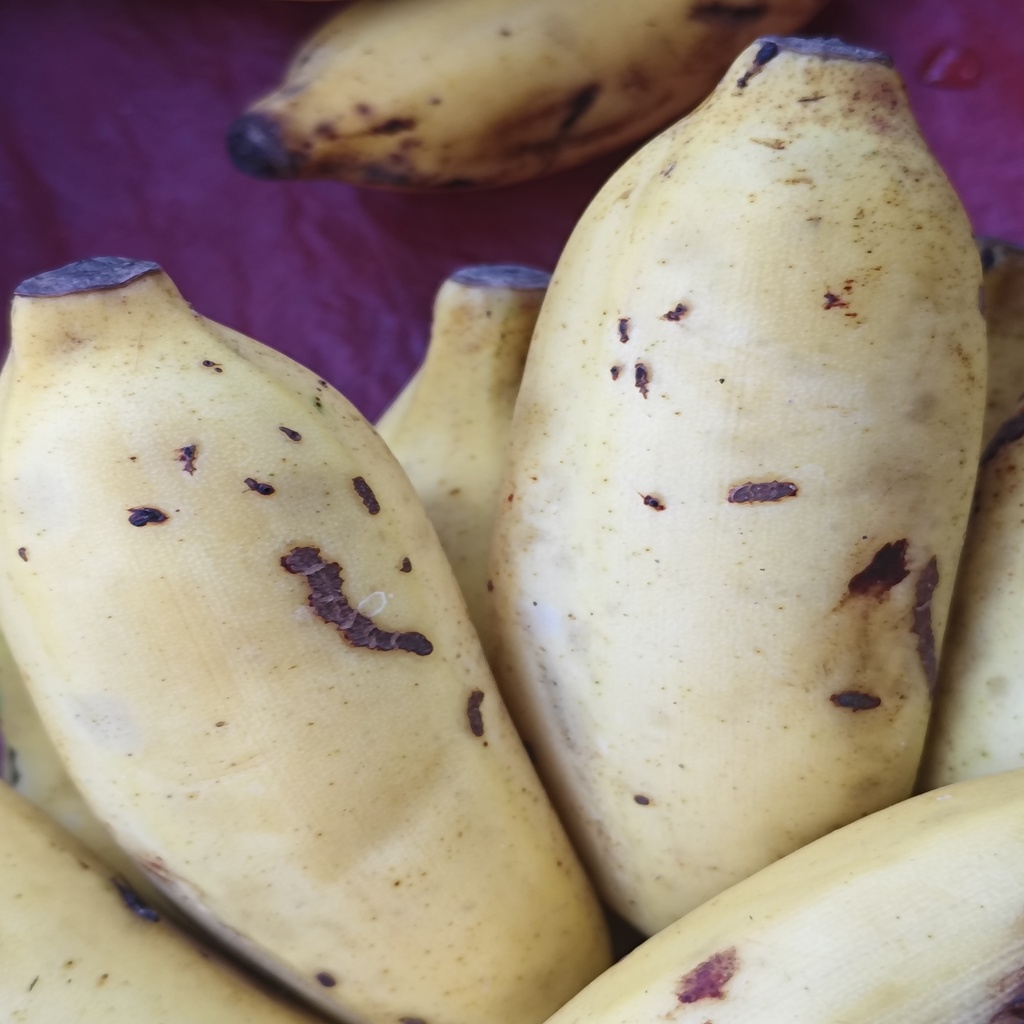unhealthy: (3, 270, 608, 1020), (490, 48, 984, 935)
